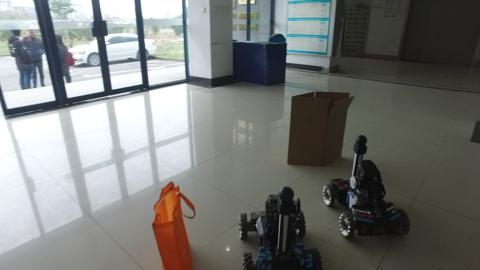bag: (152, 181, 193, 266)
box: (290, 86, 348, 169)
chariot: (326, 136, 415, 242), (232, 186, 323, 270)
